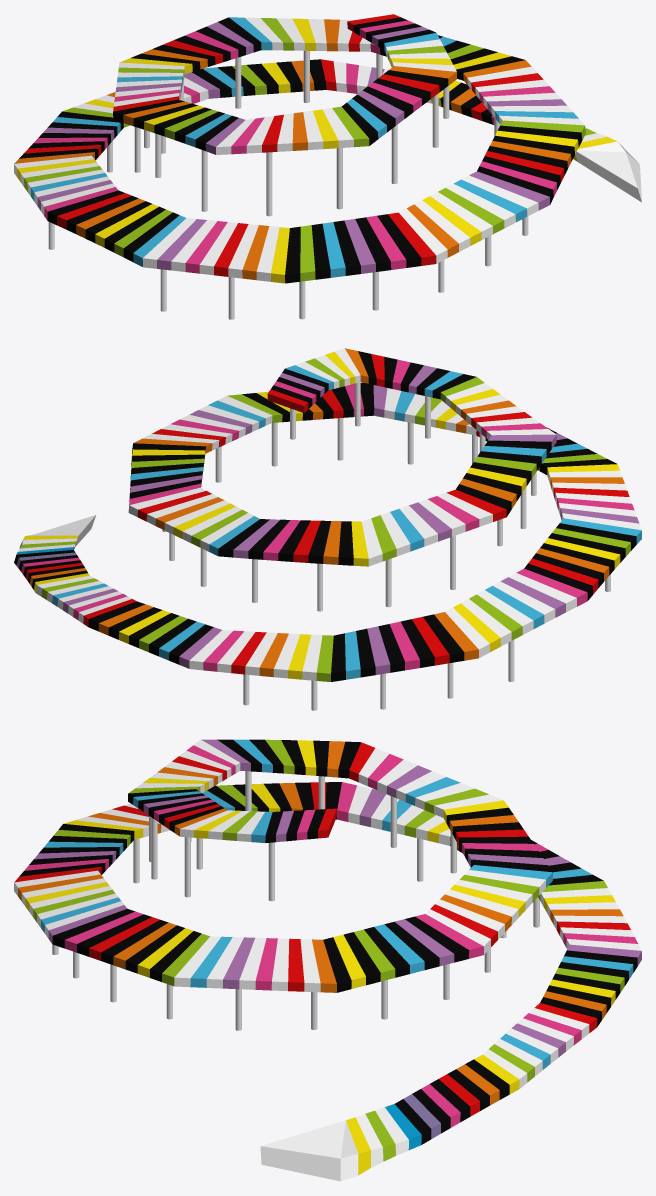
File: SM_Camino_Montana.fbx
The picture shows the model from 3 angles, top to bottom: view 1: azimuth 30°, elevation 25°; view 2: azimuth 150°, elevation 25°; view 3: azimuth 270°, elevation 25°; orthographic projection. The views are drawn at different scales.
Parts seen in each view (by area): view 1: TRAMO_07, TRAMO_06, TRAMO_08, TRAMO_13, TRAMO_05, SOPORTES_CAMINO, TRAMO_09, TRAMO_14, TRAMO_12, TRAMO_11, TRAMO_03, TRAMO_04 (+3 smaller); view 2: TRAMO_04, TRAMO_05, TRAMO_11, TRAMO_03, TRAMO_12, TRAMO_06, TRAMO_10, TRAMO_09, SOPORTES_CAMINO, TRAMO_13, TRAMO_14, TRAMO_08 (+3 smaller); view 3: TRAMO_09, TRAMO_01, TRAMO_10, TRAMO_08, TRAMO_02, TRAMO_03, TRAMO_11, TRAMO_12, TRAMO_07, SOPORTES_CAMINO, TRAMO_14, TRAMO_05 (+3 smaller).
Boxes of the visible parts, <box> form: TRAMO_07: <box>285,192,492,283</box>; TRAMO_06: <box>95,204,289,283</box>; TRAMO_08: <box>438,120,585,234</box>; TRAMO_13: <box>216,86,413,154</box>; TRAMO_05: <box>14,155,151,242</box>; SOPORTES_CAMINO: <box>48,50,528,319</box>; TRAMO_09: <box>440,36,584,125</box>; TRAMO_14: <box>347,14,456,111</box>; TRAMO_12: <box>113,83,244,154</box>; TRAMO_11: <box>116,17,261,89</box>; TRAMO_03: <box>184,59,326,103</box>; TRAMO_04: <box>14,92,129,163</box>; TRAMO_04: <box>259,612,478,681</box>; TRAMO_05: <box>445,543,614,657</box>; TRAMO_11: <box>218,505,437,566</box>; TRAMO_03: <box>88,601,277,675</box>; TRAMO_12: <box>409,434,556,541</box>; TRAMO_06: <box>544,464,641,568</box>; TRAMO_10: <box>128,471,259,555</box>; TRAMO_09: <box>130,396,272,484</box>; SOPORTES_CAMINO: <box>162,382,610,710</box>; TRAMO_13: <box>400,362,556,439</box>; TRAMO_14: <box>267,348,410,412</box>; TRAMO_08: <box>227,382,441,425</box>; TRAMO_09: <box>174,924,424,992</box>; TRAMO_01: <box>260,1079,470,1181</box>; TRAMO_10: <box>384,865,552,969</box>; TRAMO_08: <box>33,889,209,986</box>; TRAMO_02: <box>439,1003,597,1116</box>; TRAMO_03: <box>540,915,641,1026</box>; TRAMO_11: <box>396,771,552,872</box>; TRAMO_12: <box>201,739,431,797</box>; TRAMO_07: <box>14,824,134,916</box>; SOPORTES_CAMINO: <box>52,771,539,1030</box>; TRAMO_14: <box>154,799,336,843</box>; TRAMO_05: <box>264,782,450,845</box>.
Size of the model in its own units: 2356 by 830 by 2089.
